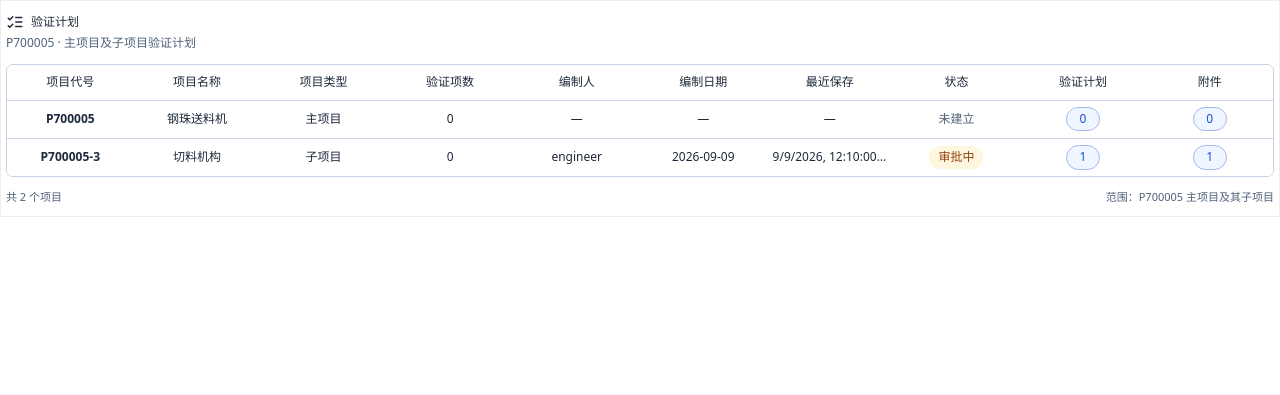
Test case: ValidationPlanManager › 显示当前审批人、自动通过记录和分配给主设的审批按钮
Click the row that starts with "P700005-3".
click(640, 157)  # box [7,138,1273,176]
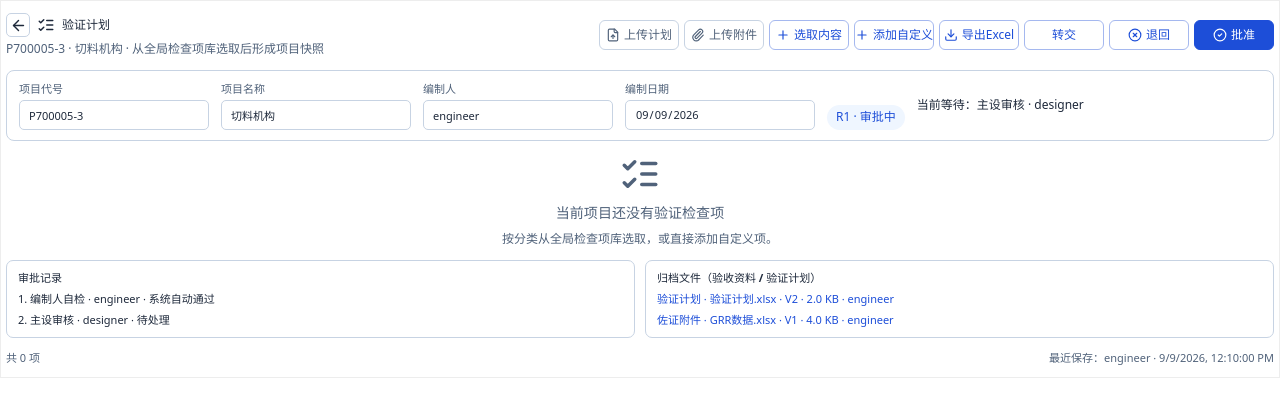
Check: the text "当前等待：主设审核 · designer" is shown, box [917,97,1084,114]
Check: the text "编制人自检 · engineer · 系统自动通过" is shown, box [18,291,215,306]
